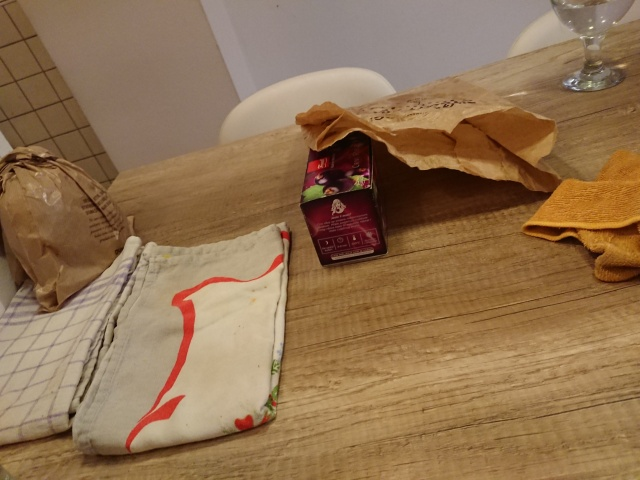Franck Black Currant Tea 60g: (296, 117, 391, 270)
